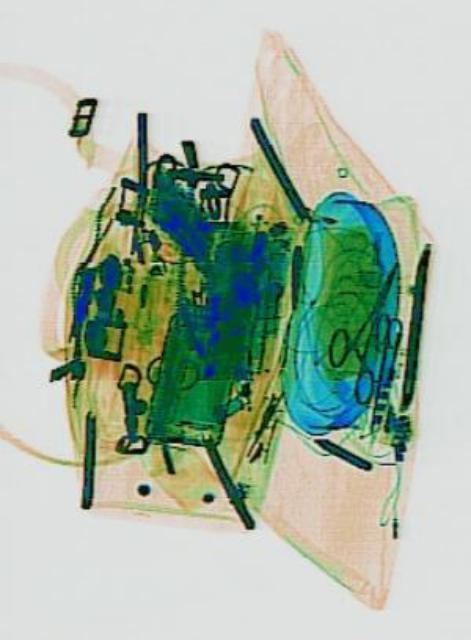Scissors: (313, 247, 419, 407), (352, 308, 401, 440)
